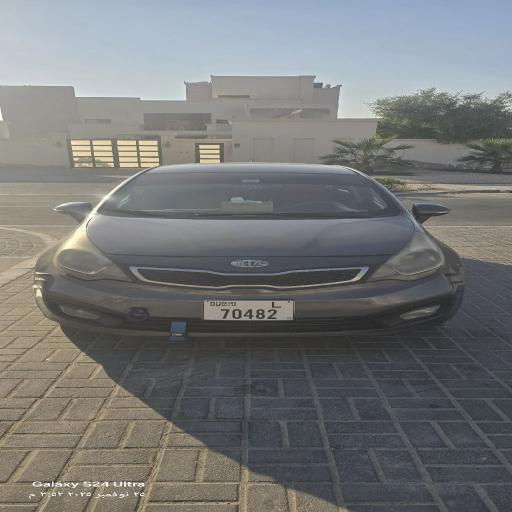license-plates: (203, 300, 294, 321)
